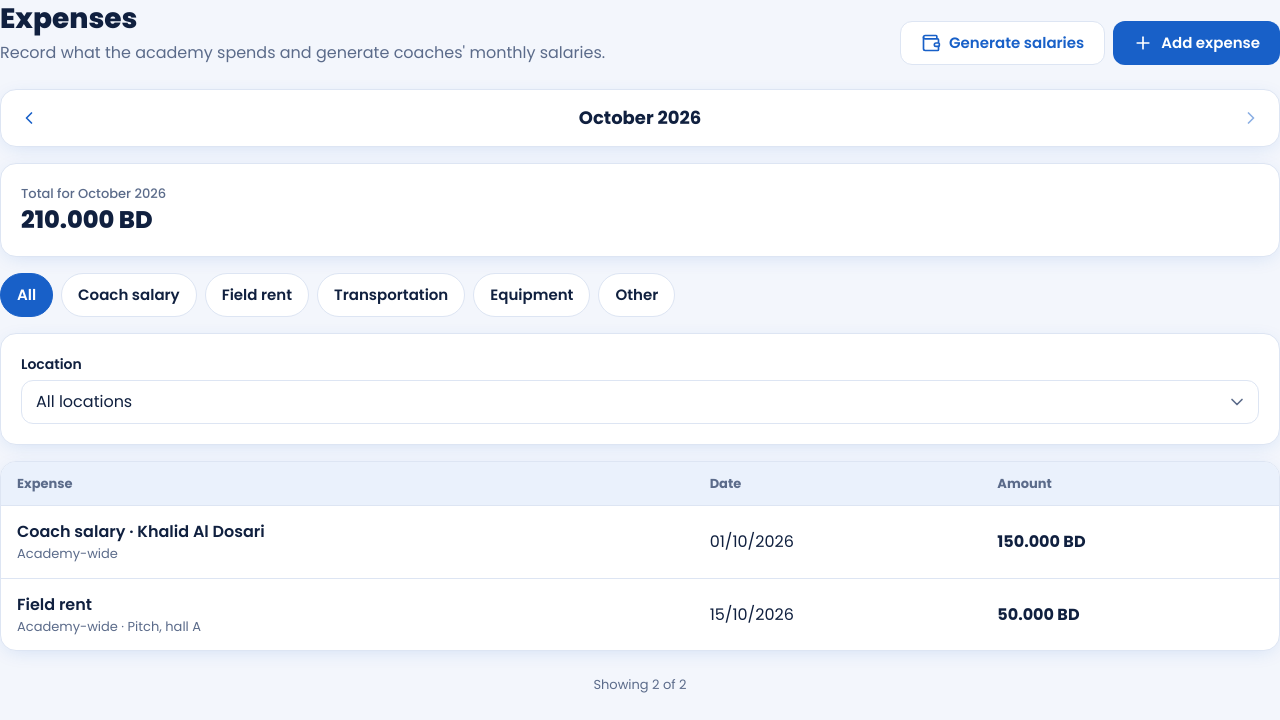
Test: ExpensesPage › adding an expense › refuses a future date
This screenshot has width=1280, height=720.
Click the button "Add expense". click: x=1197, y=43
box: [1113,21,1279,65]
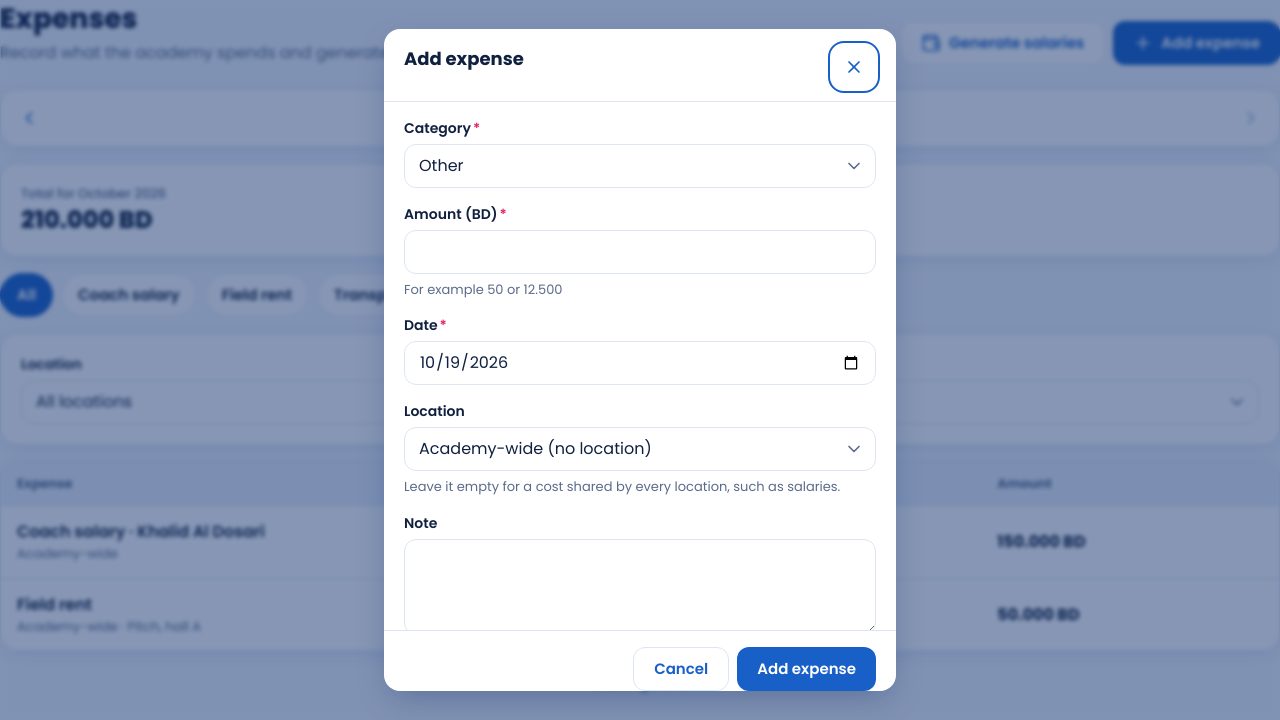
Type "10" into the field labelled "Amount (BD)*". click: x=640, y=252
box: [404,230,876,274]
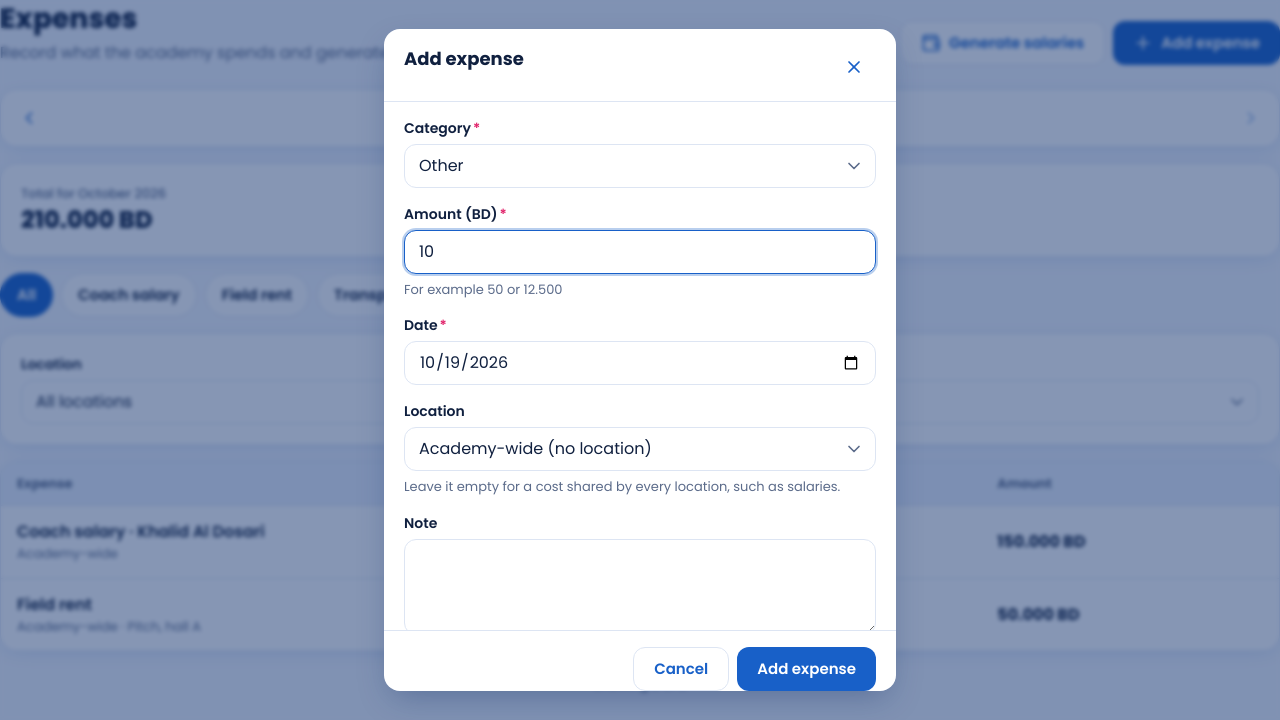
Type "2026-10-20" into the date field labelled "Date*". click: x=640, y=363
box: [404,341,876,385]
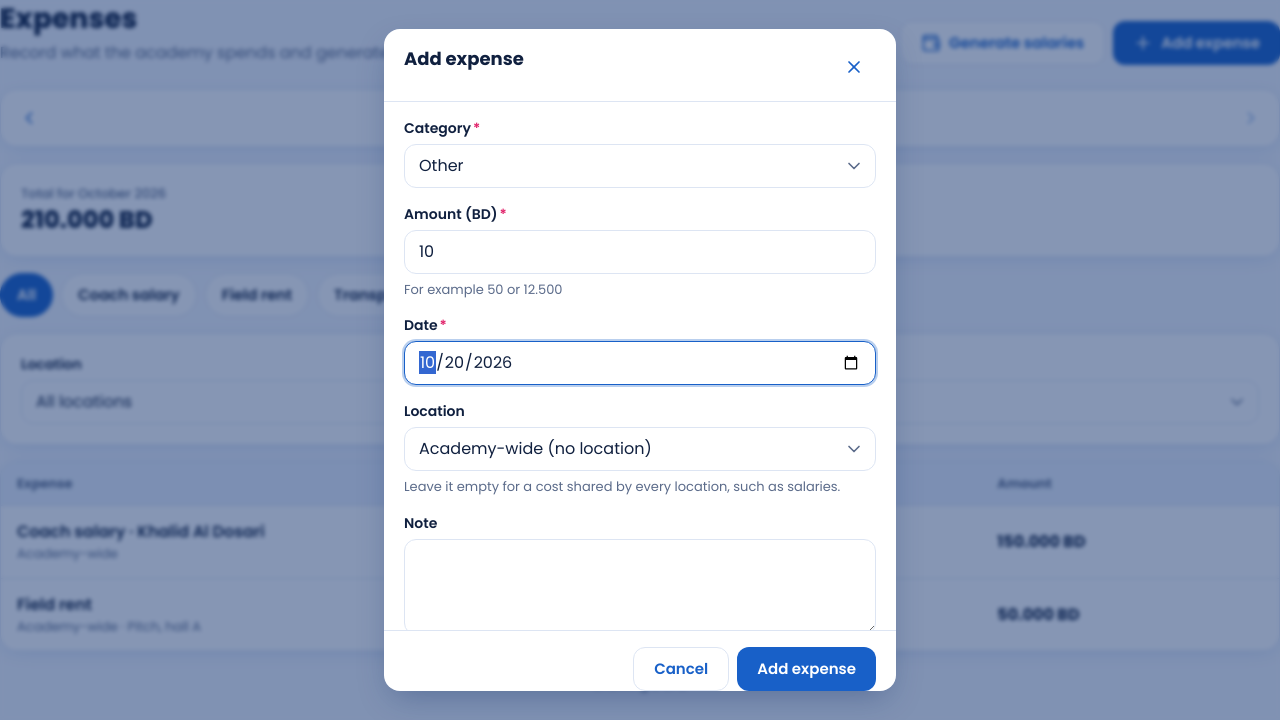
Click the button "Add expense". click: x=807, y=669
box: [737,647,876,691]
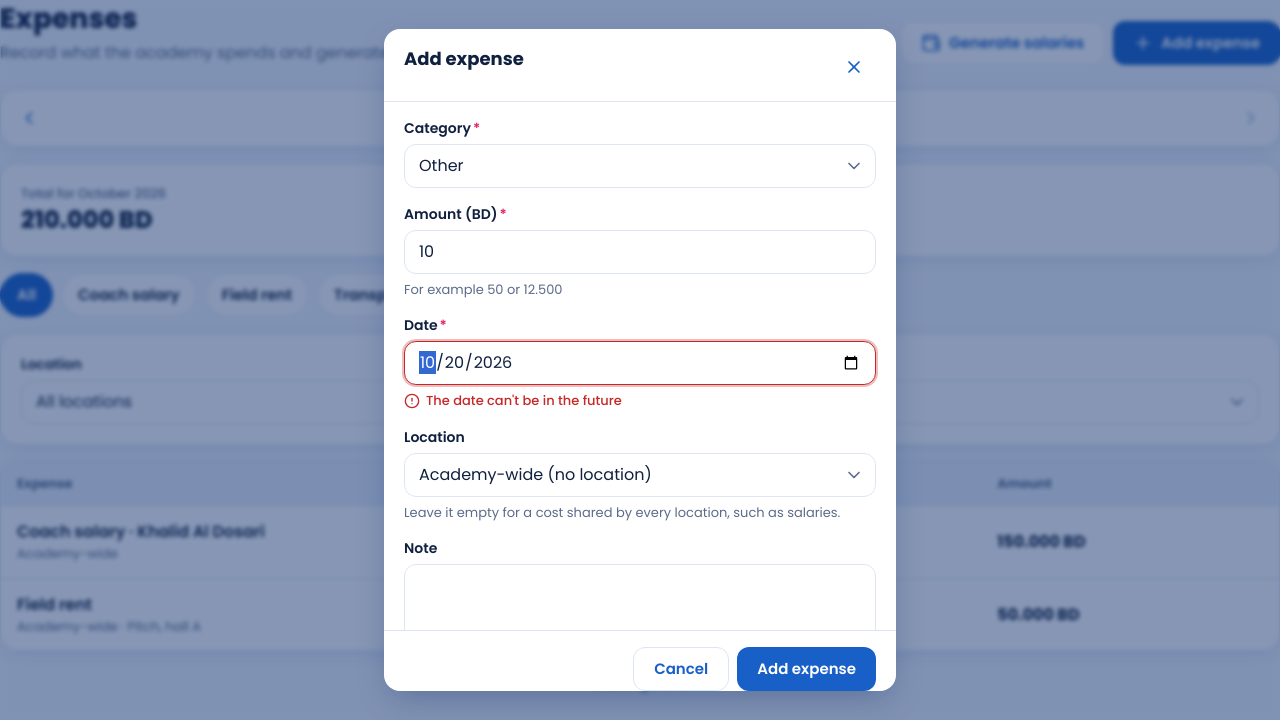
Now the text "The date can't be in the future" is shown, box [426,391,622,411]
